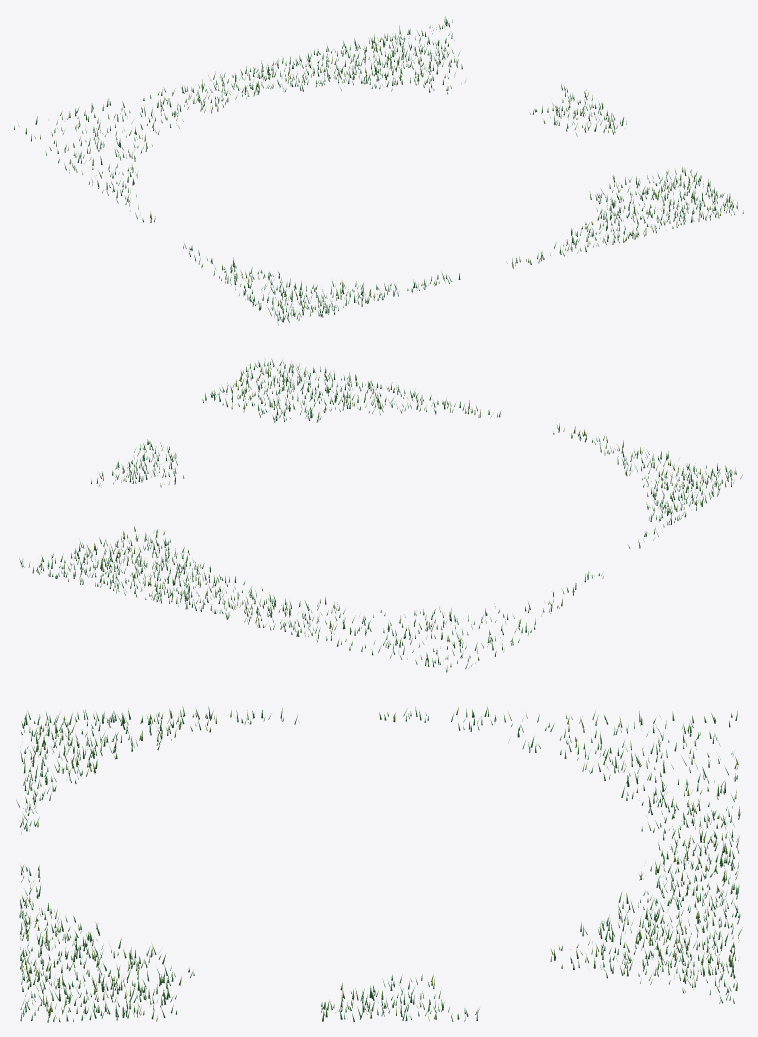
3 views of the same model, one above another, from view 1: azimuth 30°, elevation 25°; view 2: azimuth 150°, elevation 25°; view 3: azimuth 270°, elevation 25° (orthographic). The views are drawn at different scales.
Visible parts, largest first — view 1: gc_15; view 2: gc_15; view 3: gc_15.
Part boxes in pixels (x1=…): gc_15: x1=14, y1=16, x2=743, y2=325; gc_15: x1=19, y1=358, x2=742, y2=672; gc_15: x1=16, y1=706, x2=742, y2=1022.
Size of the model in its own units: 18.15 by 0.5179 by 18.27.
Materials: 1 (1 with a texture image).
